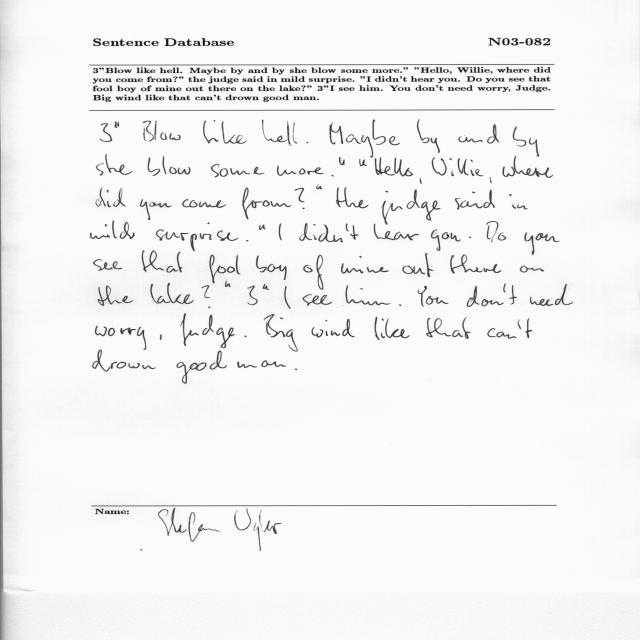word: (329, 120, 400, 158), (156, 223, 238, 251), (381, 189, 441, 225), (180, 314, 235, 348), (176, 351, 227, 384), (242, 188, 291, 220), (93, 350, 156, 372), (264, 314, 298, 351), (96, 326, 147, 350), (467, 283, 517, 307), (299, 223, 359, 242), (503, 156, 554, 178), (203, 120, 247, 144), (451, 254, 502, 274), (426, 317, 471, 339), (432, 158, 483, 177), (530, 284, 573, 306), (488, 318, 533, 339), (150, 283, 194, 304), (262, 120, 297, 146), (142, 251, 183, 273), (346, 285, 391, 305), (210, 255, 241, 284), (148, 156, 191, 176), (458, 124, 499, 144), (341, 256, 389, 273), (90, 221, 135, 239), (513, 126, 539, 157), (375, 317, 410, 340), (455, 190, 495, 210), (143, 121, 181, 142), (97, 154, 133, 176), (524, 233, 560, 255), (256, 255, 287, 280), (312, 319, 355, 337), (417, 120, 440, 153), (403, 253, 434, 277), (303, 255, 324, 290), (99, 285, 134, 306), (375, 158, 413, 177), (374, 224, 419, 240), (336, 188, 369, 209), (211, 164, 264, 177), (140, 199, 172, 220), (431, 229, 461, 251), (418, 286, 448, 307), (96, 188, 126, 207), (277, 165, 324, 176), (247, 284, 269, 305), (487, 221, 507, 242), (101, 121, 120, 142), (182, 199, 226, 208), (237, 360, 286, 368), (93, 259, 122, 271), (303, 294, 332, 306), (509, 194, 528, 209), (294, 188, 305, 209), (202, 285, 211, 308), (520, 266, 544, 273), (285, 286, 291, 309), (359, 159, 367, 167), (279, 223, 282, 240), (339, 157, 345, 165), (259, 225, 266, 230), (225, 281, 230, 287), (316, 186, 322, 190), (489, 177, 492, 183), (420, 178, 422, 184), (160, 334, 162, 340), (246, 240, 248, 242), (469, 237, 471, 239), (295, 368, 297, 370), (331, 175, 334, 176), (399, 305, 402, 306), (244, 336, 247, 337), (307, 142, 309, 143)
